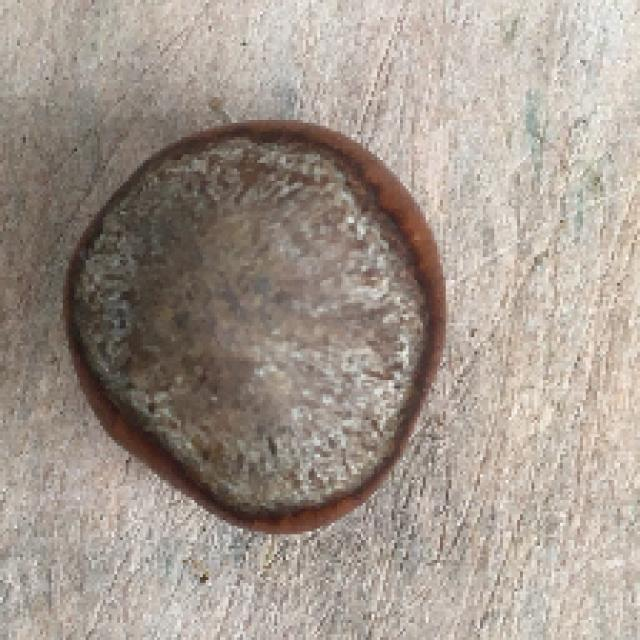qualityHazelnut: (57, 112, 451, 545)
